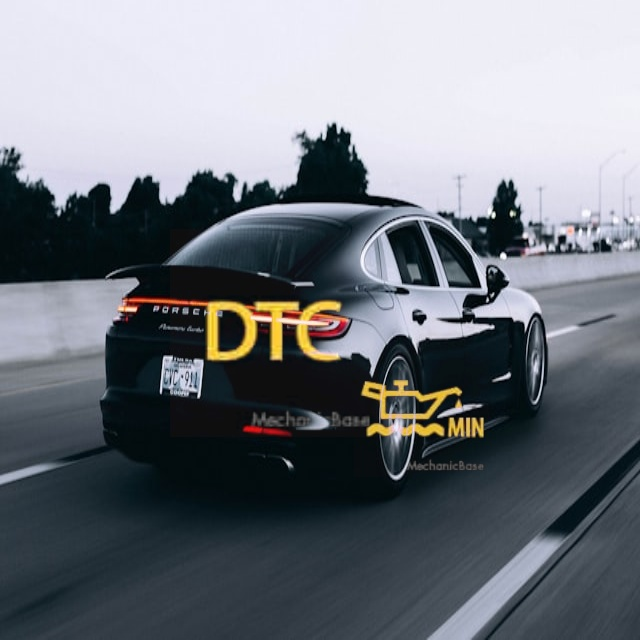symbol: (170, 229, 378, 437), (354, 342, 489, 477)
